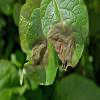Potato leaf late blight: (41, 0, 89, 72), (19, 7, 58, 87)
